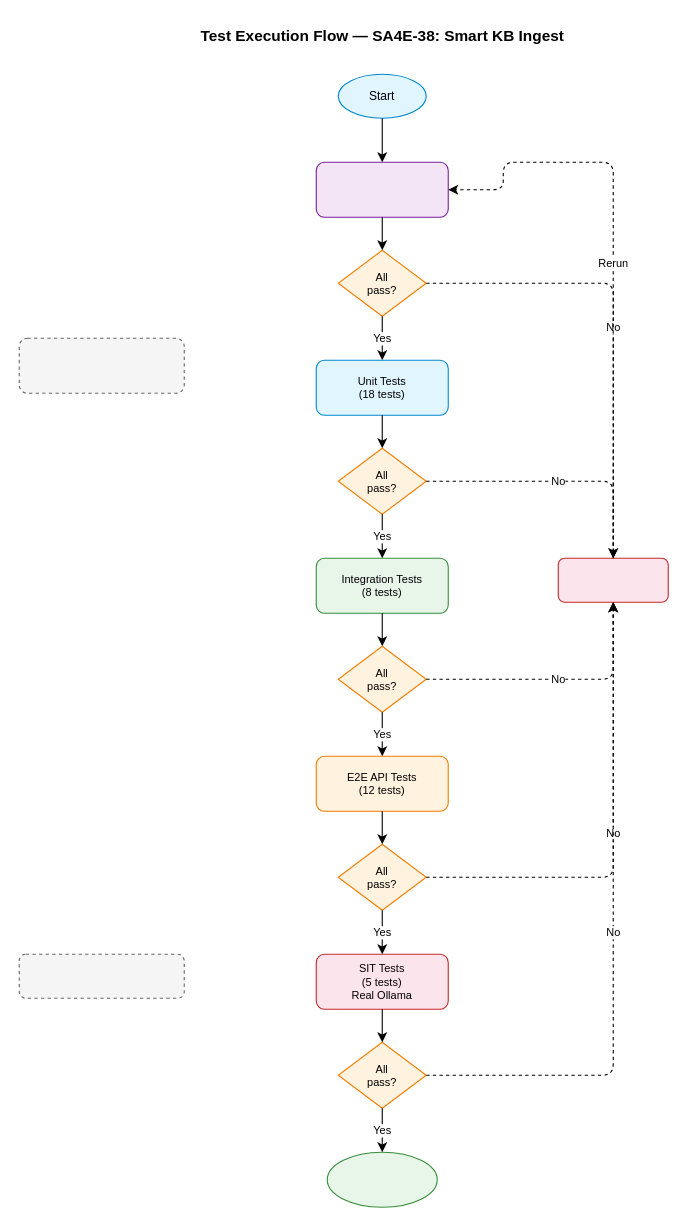
This 688x1227 diagram has some shape labels left out. Here are the shapes that lost their labels. From the top down, the centre of each, then its label:
point 381,189: PBT Property-Based (5 tests)
point 101,365: CI Pipeline: PBT + UT + IT + E2E-API run on every push
point 612,579: Fix & Retest
point 101,975: SIT: Manual trigger (requires real Ollama)
point 381,1179: DONE All 48 Pass
